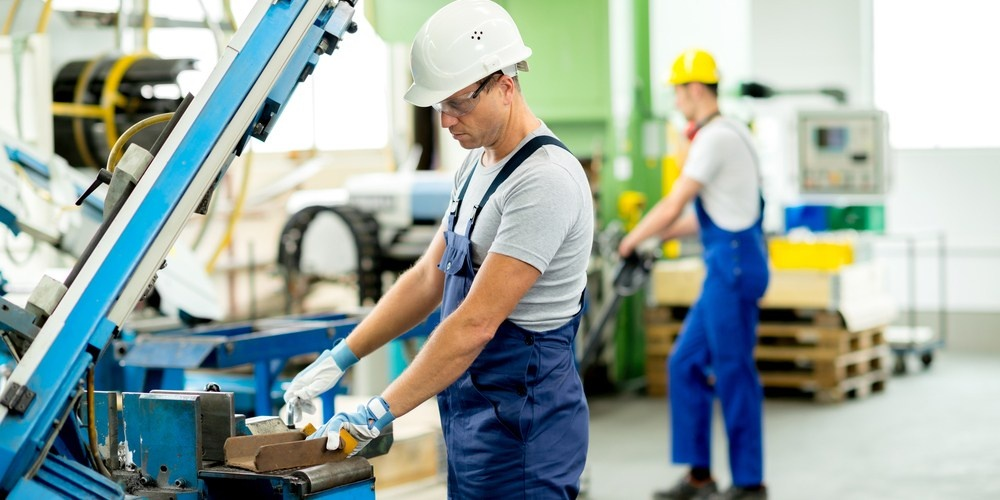white: (404, 4, 542, 150)
yellow: (667, 52, 724, 123)
